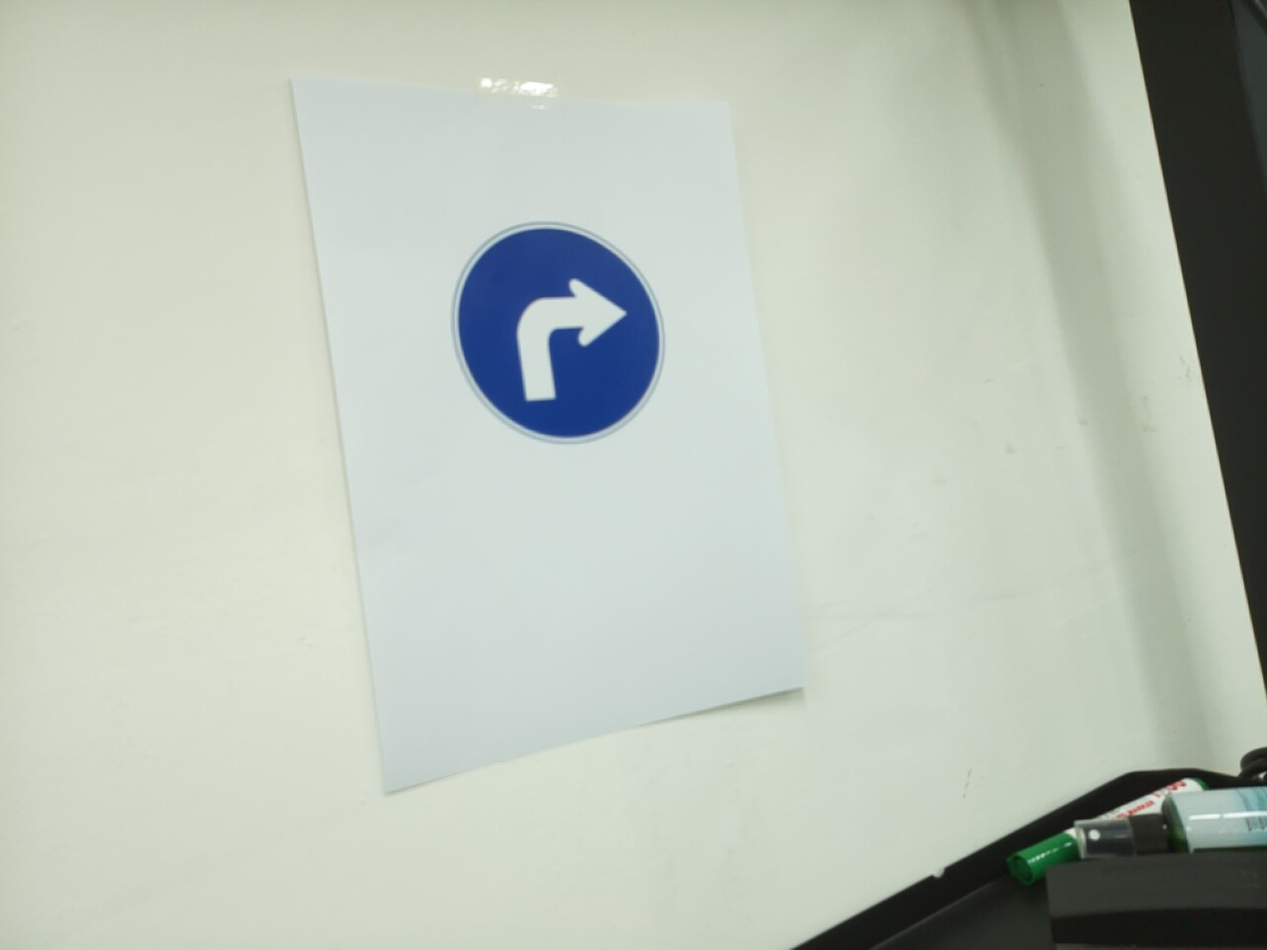right_turn: (450, 221, 667, 446)
